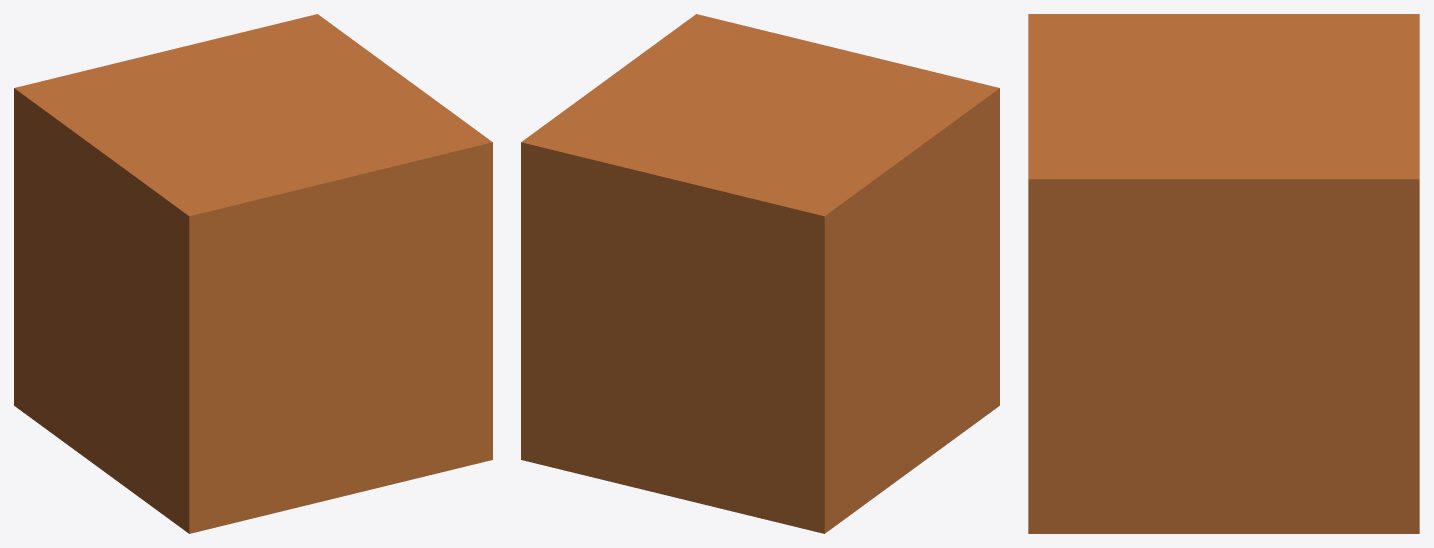
File: bad_proxy_bounds.glb
The picture shows the model from 3 angles, left to right: view 1: azimuth 30°, elevation 25°; view 2: azimuth 150°, elevation 25°; view 3: azimuth 270°, elevation 25°; orthographic projection. The views are drawn at different scales.
Parts seen in each view (by area): view 1: prop_crate; view 2: prop_crate; view 3: prop_crate.
Boxes of the visible parts, x1=… form: prop_crate: x1=14, y1=14, x2=492, y2=533; prop_crate: x1=521, y1=14, x2=999, y2=533; prop_crate: x1=1028, y1=14, x2=1419, y2=533.
Size of the model in its own units: 1 by 1 by 1.
1 material, 1 textured.
